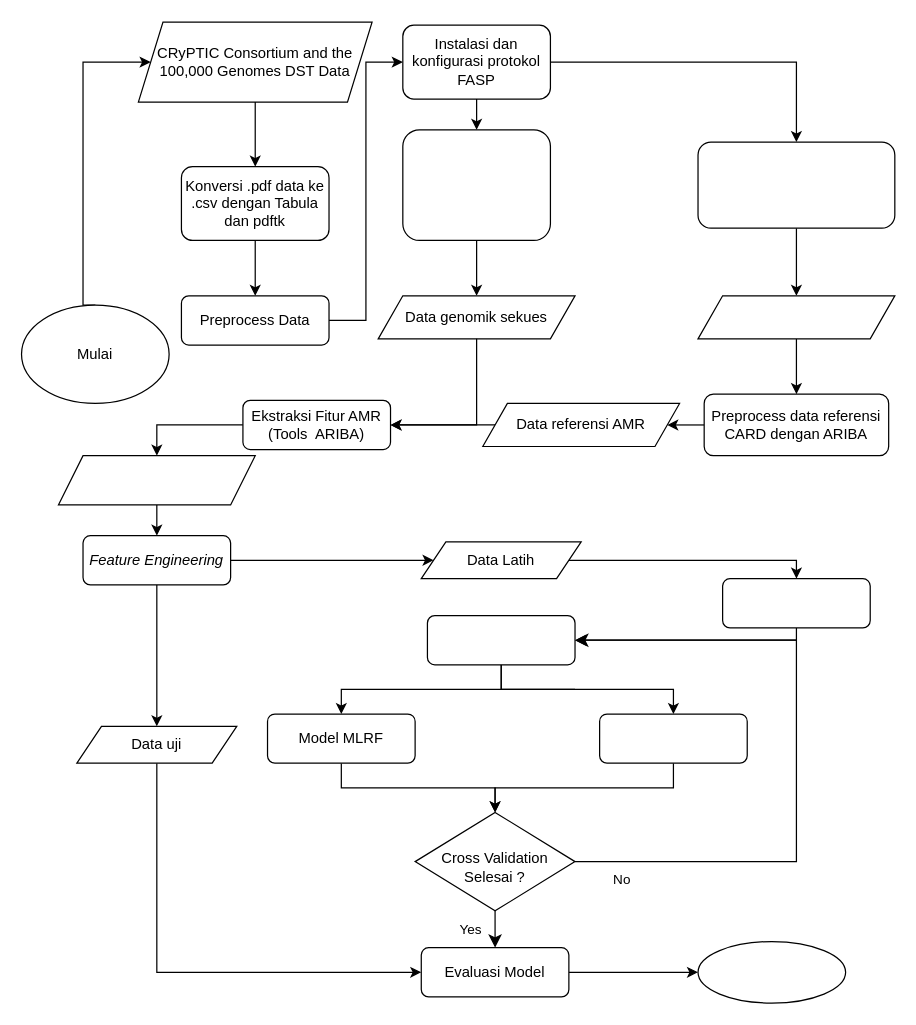
The diagram is 916 pixels wide and 1025 high, and some of its shapes have lost their labels. The centre of each missing label's shape, as x and y in pixels:
10 Fold Cross Validation: the point at 500,639
Akuisisi Data Sekuens ENA (EnaBrowserTools) dengan protokol FASP: the point at 476,184
Akuisisi Data Sekuens Referensi CARD dengan ARIBA: the point at 796,184
Data referensi CARD: the point at 796,317
Fitur AMR Sekuens: the point at 156,479
Model klasifikasi resistensi obat: the point at 771,971
Model SLRF: the point at 672,738
Pemilihan Hyperparameter: the point at 795,602
